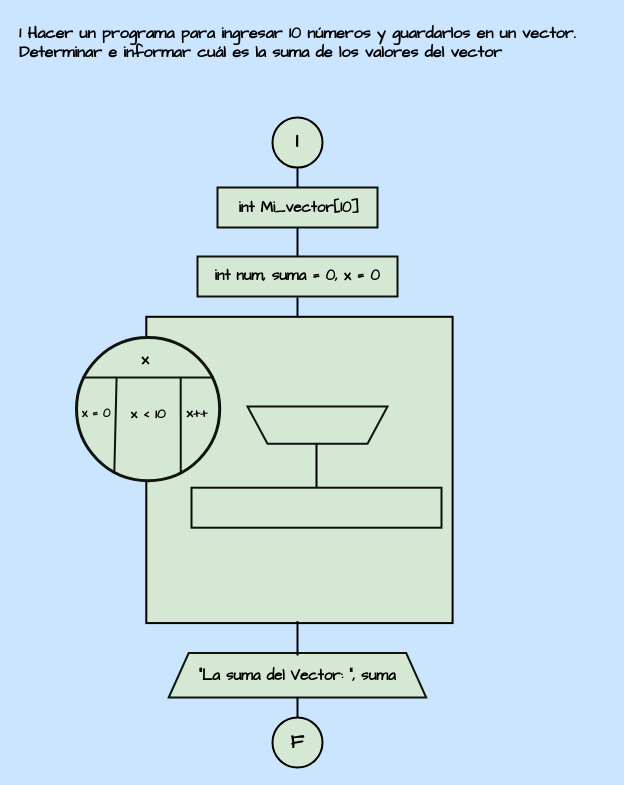
Some shapes in this 624 by 785 pixel diagram are drawn without their labels. Here are the shapes that lost their labels. From the top down, the box of each, then its label:
(246, 405, 388, 444): num
(190, 486, 442, 528): suma += Mi_vector[x] = num
